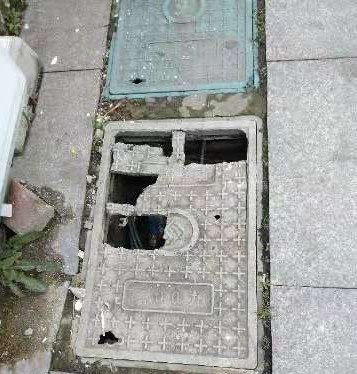broke: (68, 116, 264, 374)
